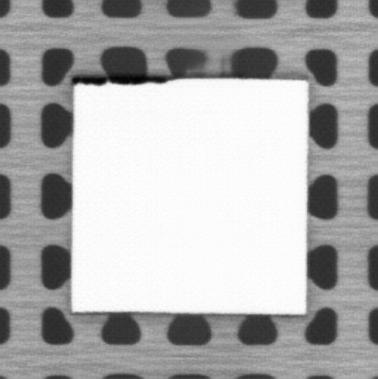DIE_BROKEN: (70, 74, 180, 85)
